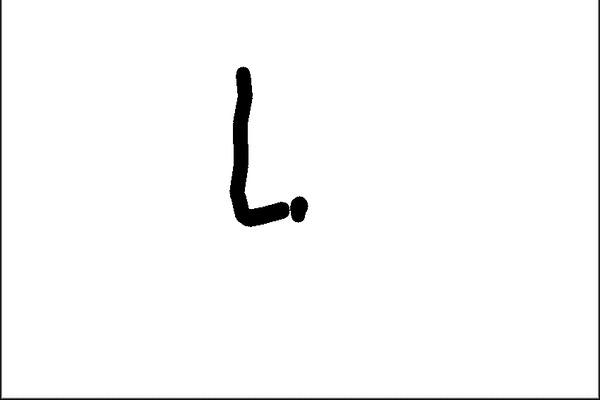L: (220, 58, 313, 233)
